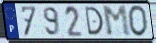2: (64, 5, 84, 38)
7: (20, 5, 38, 37)
9: (42, 6, 61, 37)
D: (83, 6, 105, 37)
M: (101, 5, 132, 38)
O: (127, 5, 149, 38)
